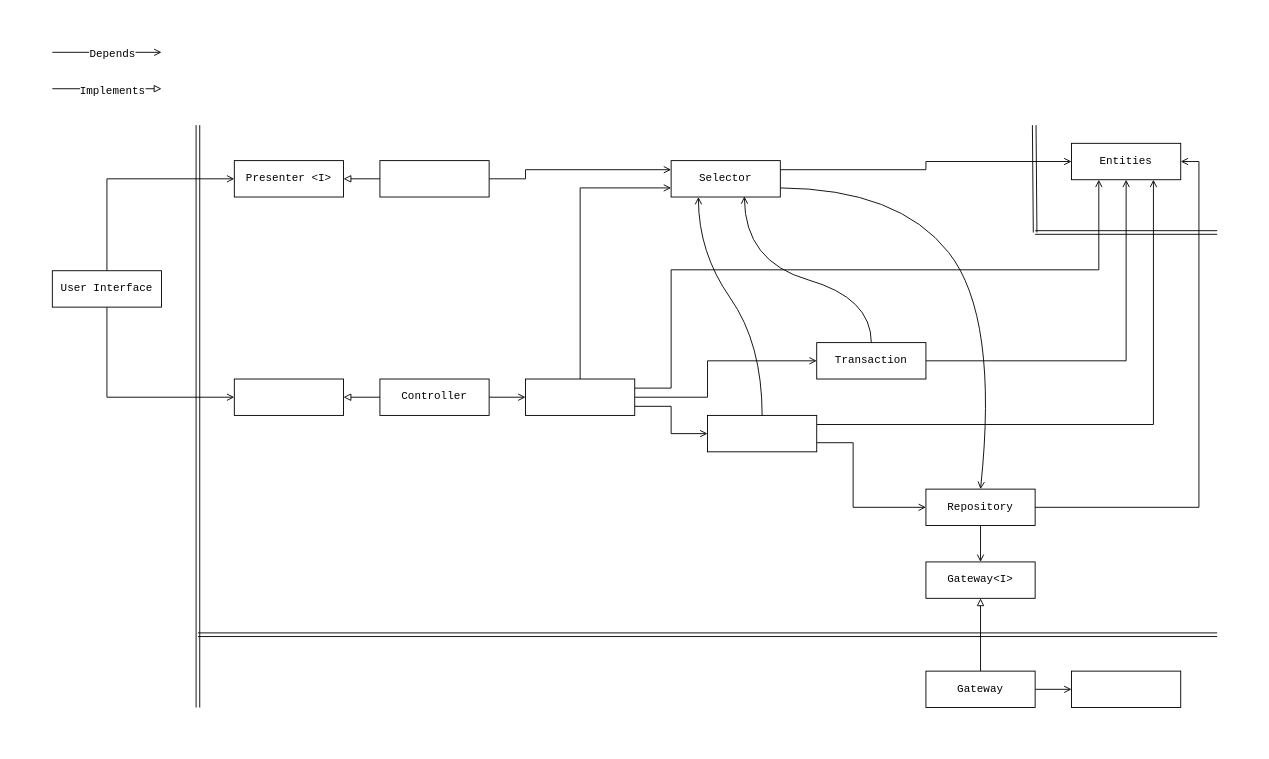
Some shapes in this 1269 by 759 pixel diagram are drawn without their labels. The centre of each missing label's shape, as x and y in pixels:
"Controller <I>" goes at point 288,396.
"Effect" goes at point 762,433.
"External Resource" goes at point 1126,689.
"Presenter" goes at point 434,178.
"Use Case Interactor" goes at point 580,396.
